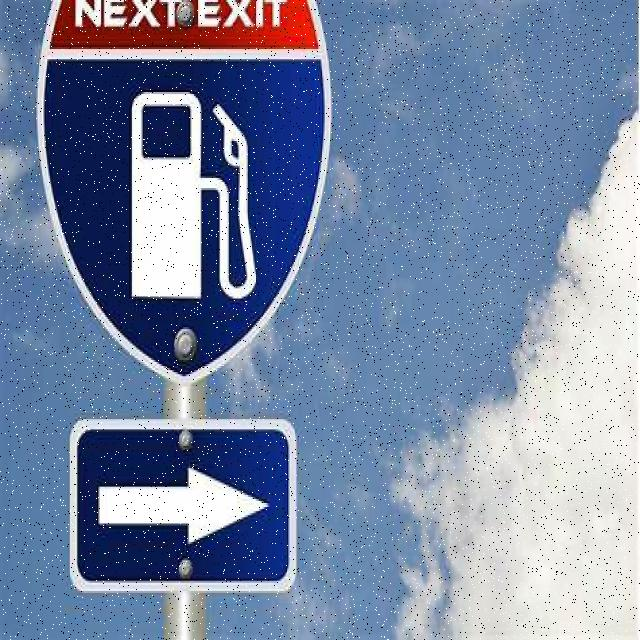petrol_station: (54, 66, 316, 380)
